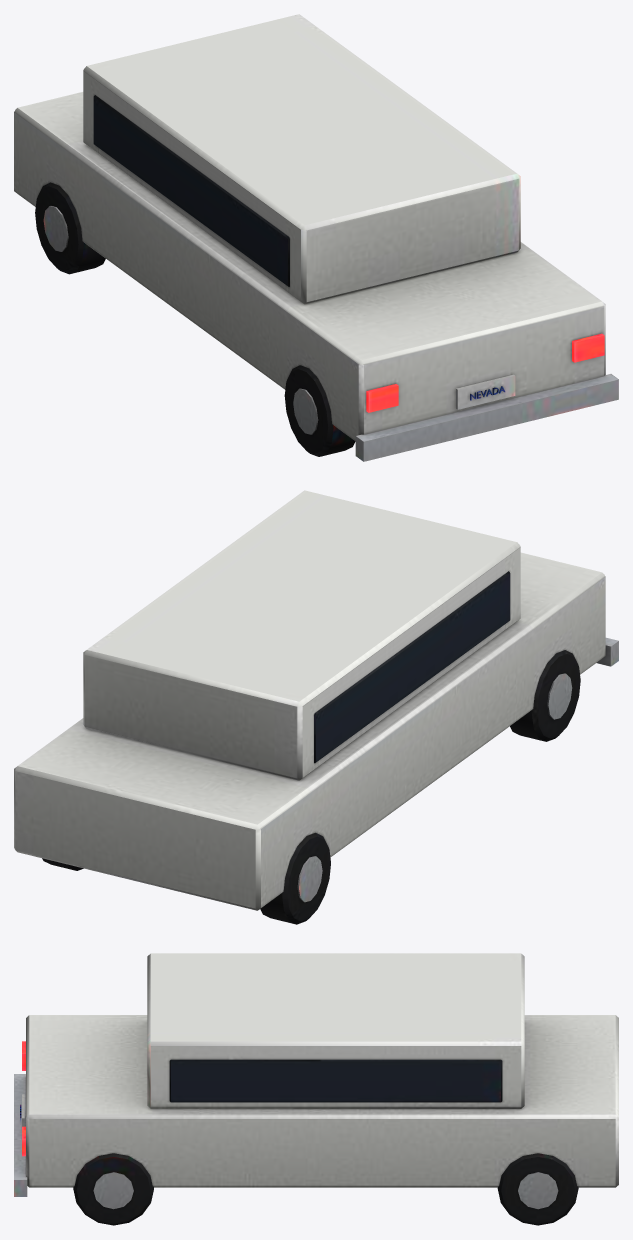
The model's file is limusina.glb.
3 views of the same model, one above another, from view 1: azimuth 30°, elevation 25°; view 2: azimuth 150°, elevation 25°; view 3: azimuth 270°, elevation 25° (orthographic). The views are drawn at different scales.
Visible parts, largest first — view 1: limusina; view 2: limusina; view 3: limusina.
Part boxes in pixels (bbox=[...]): limusina: bbox=[14, 14, 618, 461]; limusina: bbox=[14, 490, 618, 924]; limusina: bbox=[14, 953, 618, 1225].
Size of the model in its own units: 1.86 by 1.45 by 4.49.
1 material, 1 textured.
